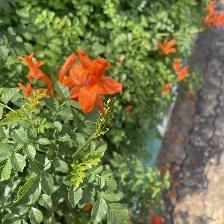honeysuckle: (65, 49, 124, 118), (16, 53, 54, 95), (204, 1, 224, 29), (170, 59, 189, 81), (159, 39, 179, 59)
